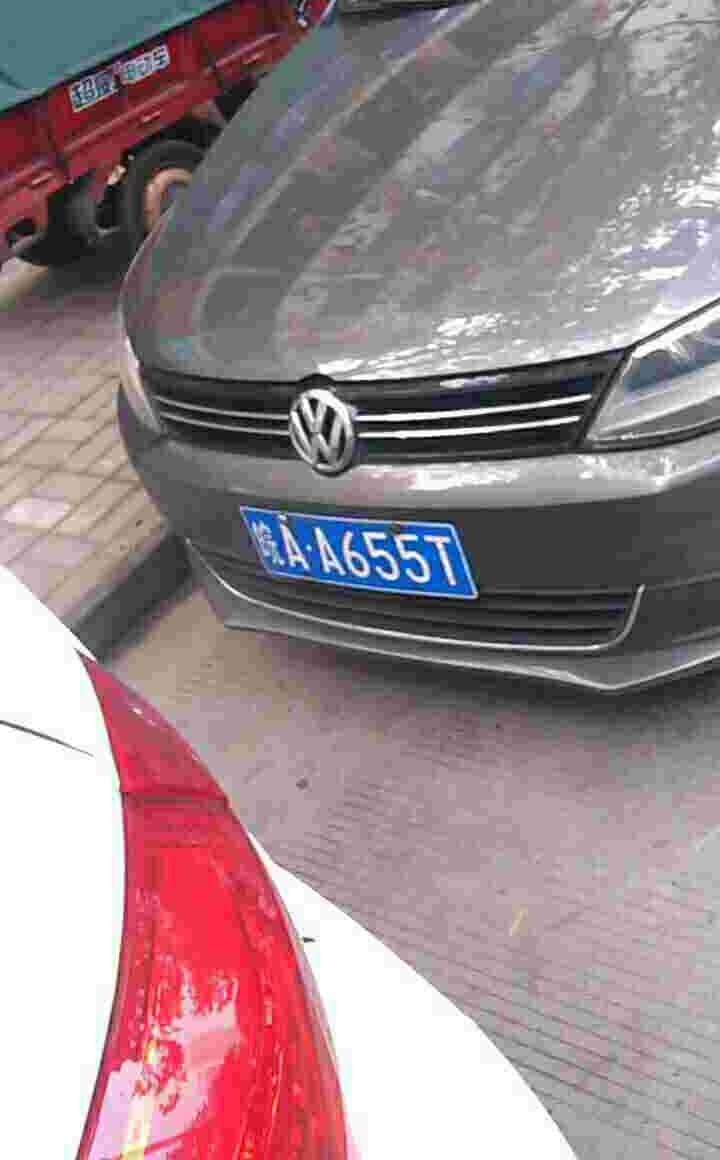license_plate: (245, 510, 470, 604)
